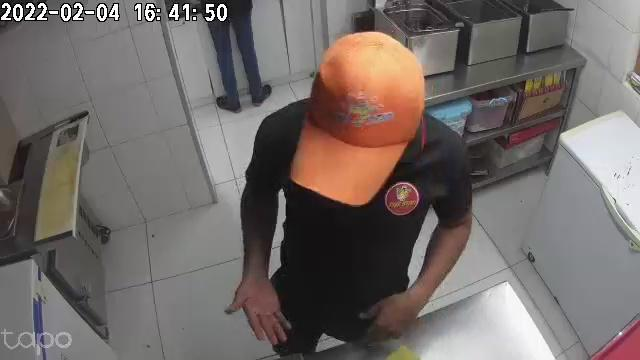no_gloves: (221, 269, 292, 345)
